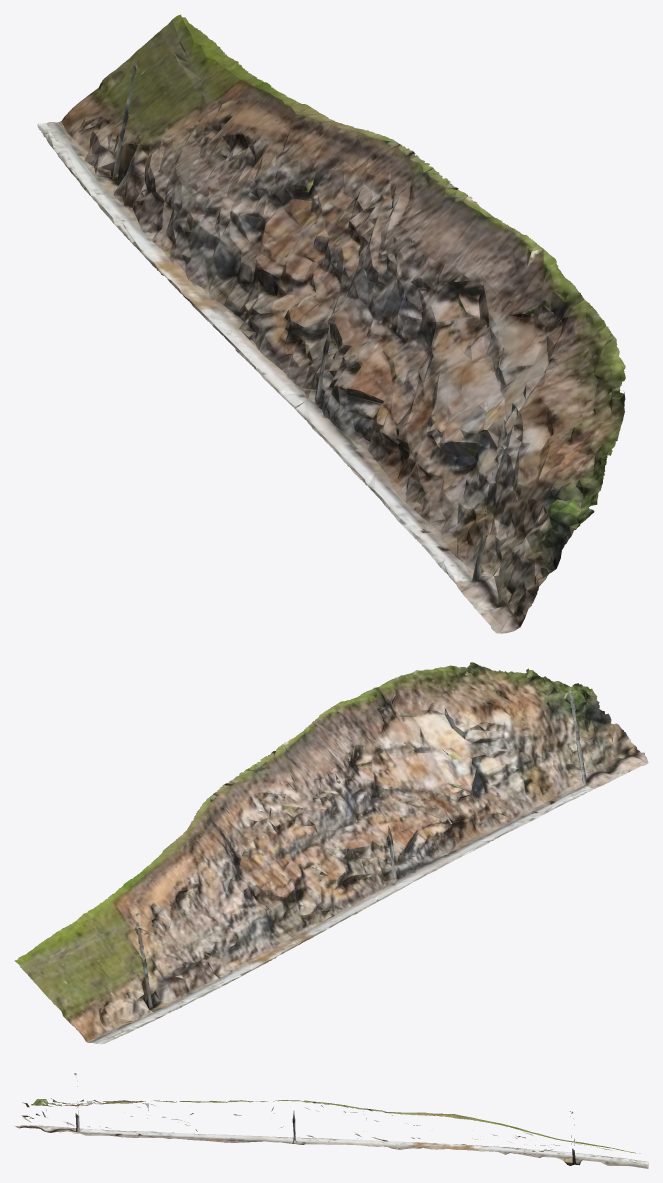
The picture shows the model from 3 angles, top to bottom: view 1: azimuth 30°, elevation 25°; view 2: azimuth 150°, elevation 25°; view 3: azimuth 270°, elevation 25°; orthographic projection. The views are drawn at different scales.
Size of the model in its own units: 29.32 by 15.82 by 106.
Materials: 1 (1 with a texture image).
